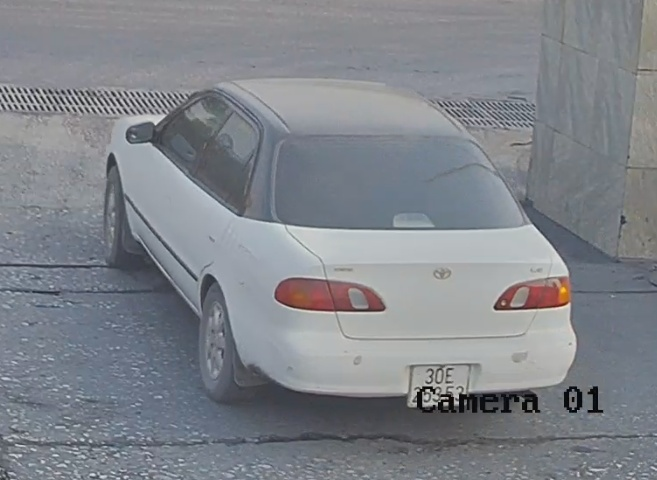vehicle plate: (410, 362, 469, 413)
